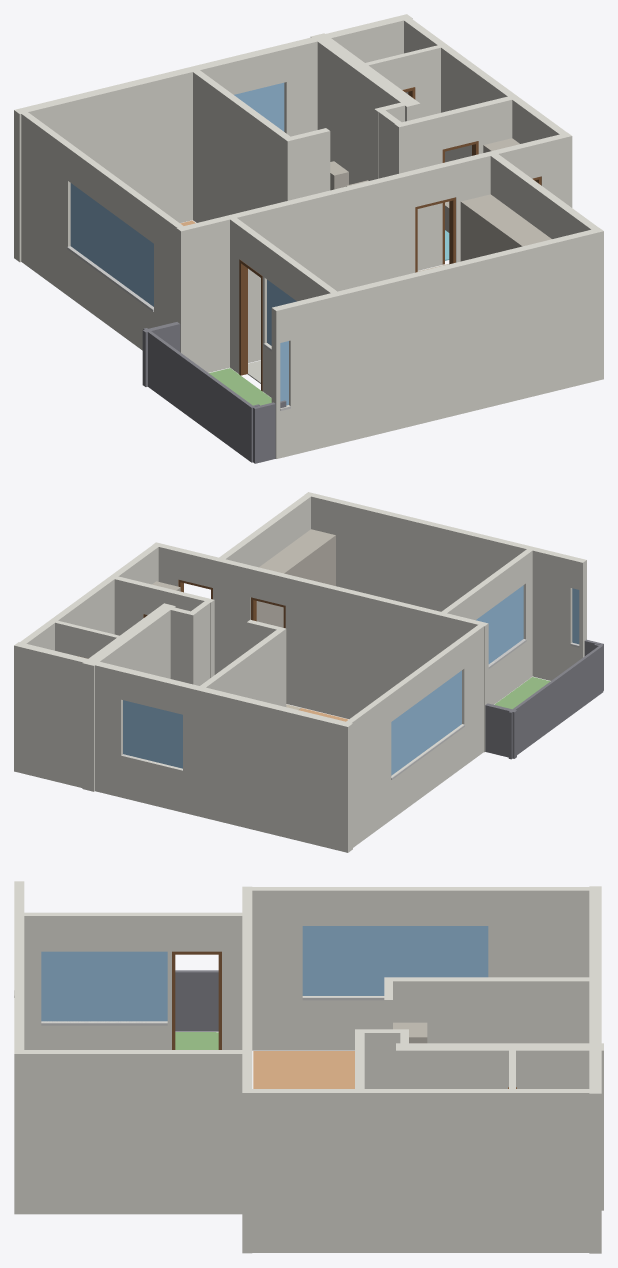
3 renders of one model, top to bottom at view 1: azimuth 30°, elevation 25°; view 2: azimuth 150°, elevation 25°; view 3: azimuth 270°, elevation 25°, orthographic. The views are drawn at different scales.
Visible parts, largest first — view 1: walls, railings, window_6, furniture_2_closet, window_2, door_4, floor_5_Outdoor, door_1, window_7; view 2: walls, railings, window_6, window_2, furniture_2_closet, window_7, floor_5_Outdoor; view 3: walls, window_6, window_7, floor_0_Living_Room, railings, door_4, floor_5_Outdoor, sill_7, furniture_0_closet.
Boxes of the visible parts, x1,y1,x2,y2 form: walls: (14,14,603,458); railings: (142,322,286,463); window_6: (70,183,153,306); furniture_2_closet: (460,194,551,261); window_2: (234,82,284,131); door_4: (239,259,262,391); floor_5_Outdoor: (209,368,271,405); door_1: (415,197,455,272); window_7: (267,279,296,345); walls: (14,492,586,852); railings: (485,639,603,759); window_6: (391,670,461,775); window_2: (123,700,182,768); furniture_2_closet: (256,529,335,627); window_7: (476,585,523,663); floor_5_Outdoor: (494,677,550,709); walls: (14,881,603,1253); window_6: (302,926,488,995); window_7: (41,951,167,1021); floor_0_Living_Room: (253,1051,354,1088); railings: (175,970,218,1031); door_4: (172,951,221,1049); floor_5_Outdoor: (175,1032,218,1049); sill_7: (41,1021,167,1025); furniture_0_closet: (393,1022,427,1043).
Size of the model in its own units: 8.14 by 2.72 by 9.01.
